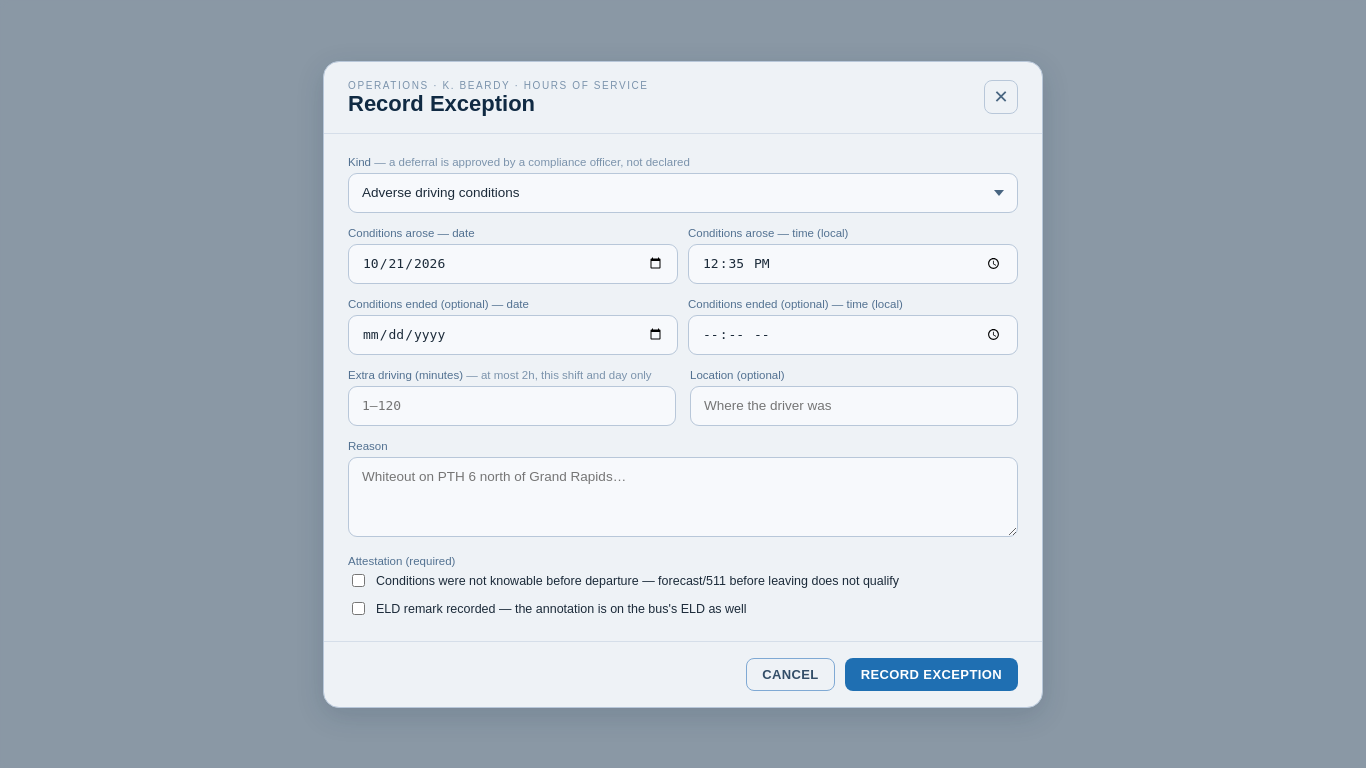
Test: HosExceptionModal — declare › shows the attestation text and refuses an adverse declaration until it is ticked
Expected: the text "Conditions were not knowable before departure — forecast/511 before leaving does not qualify" is shown, [376,574,899,588]
Type "Whiteout on PTH 6" into the text box with placeholder "Whiteout on PTH 6 north of Grand Rapids…" at (683, 497), box [348,456,1018,537]
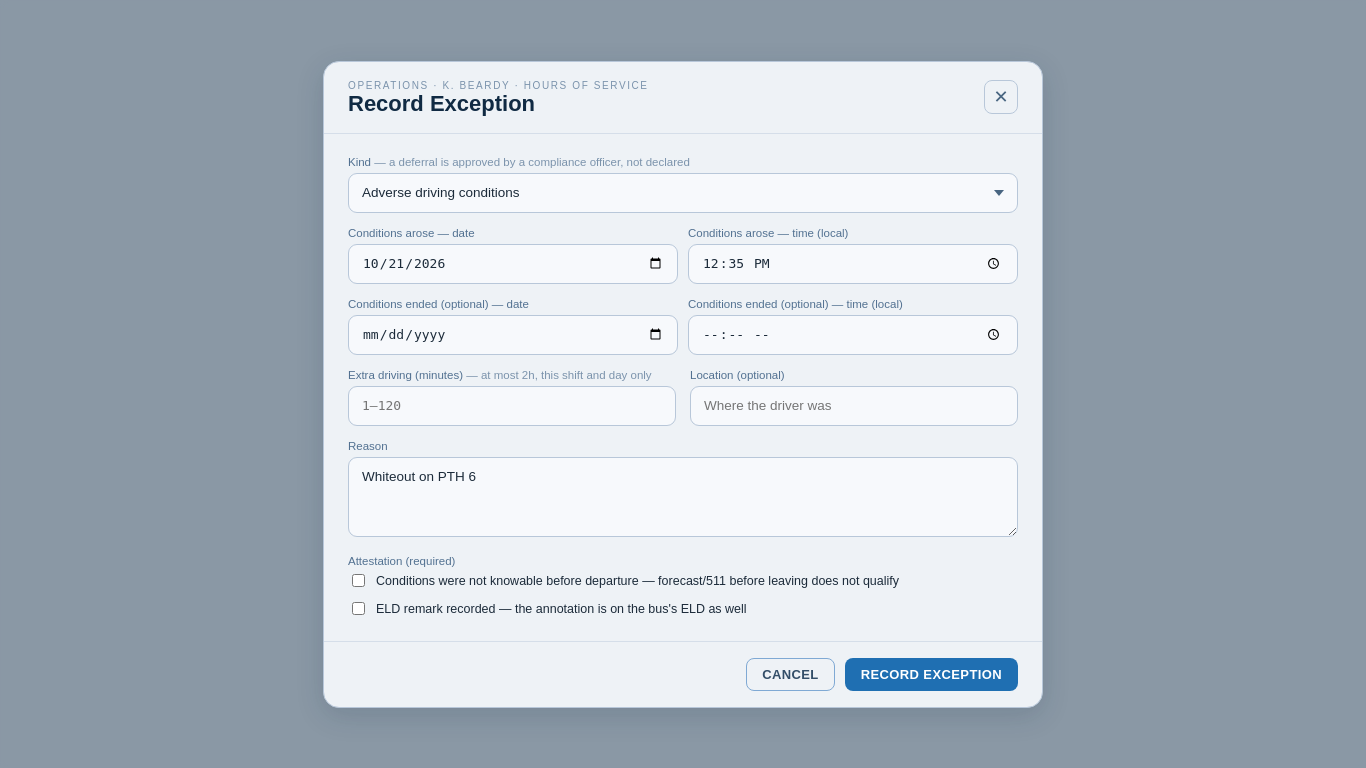
Type "60" into the number field with placeholder "1–120" at (512, 406), box [348,386,676,426]
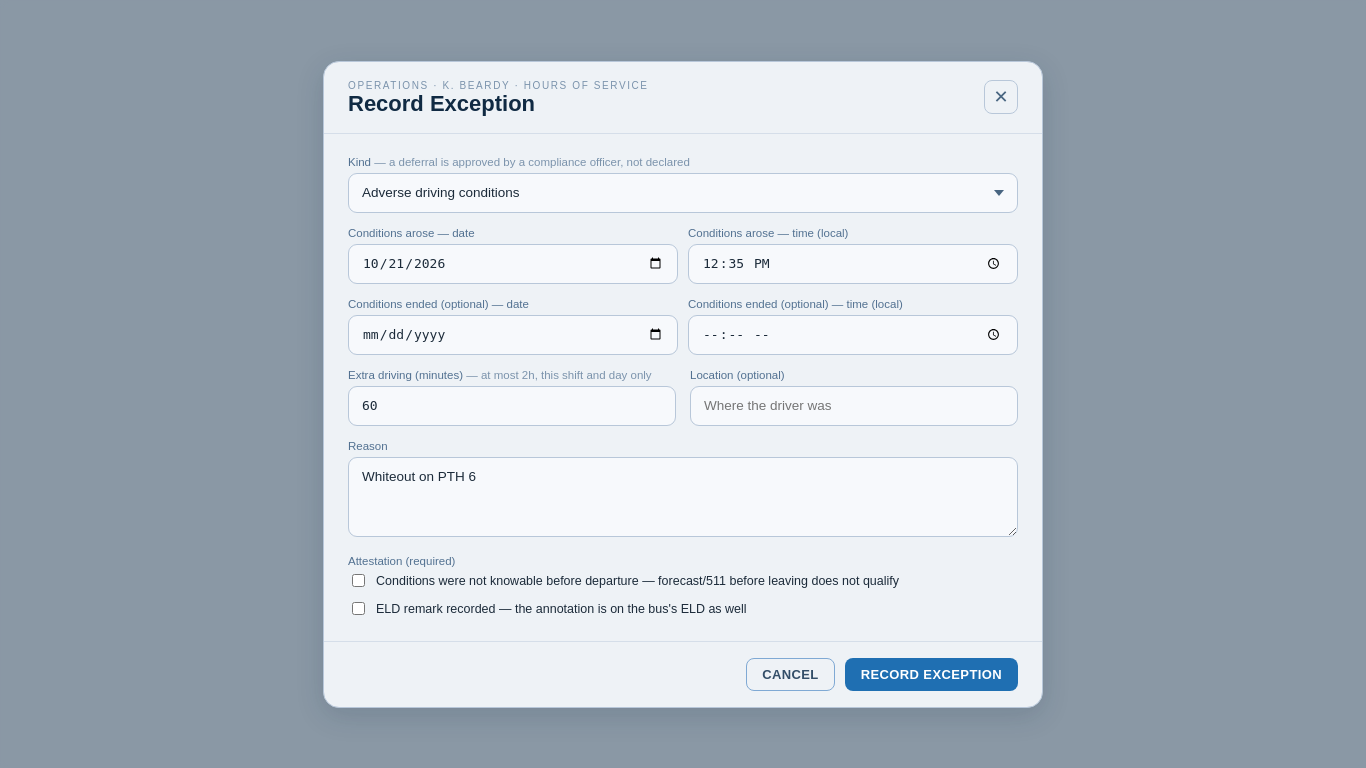
Click the text "RECORD EXCEPTION" at (931, 674), box [845,658,1018,690]
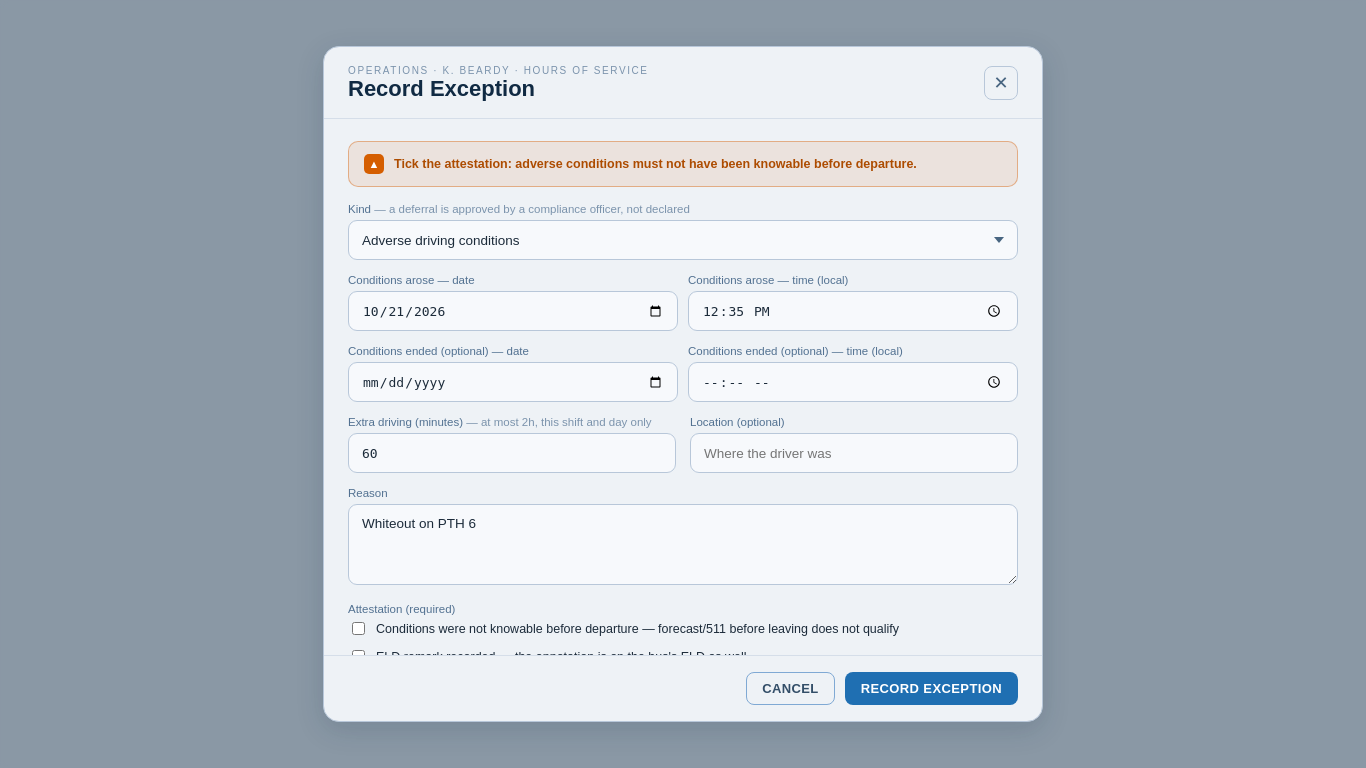
Expected: the text "Tick the attestation" is shown, [394,157,917,171]
